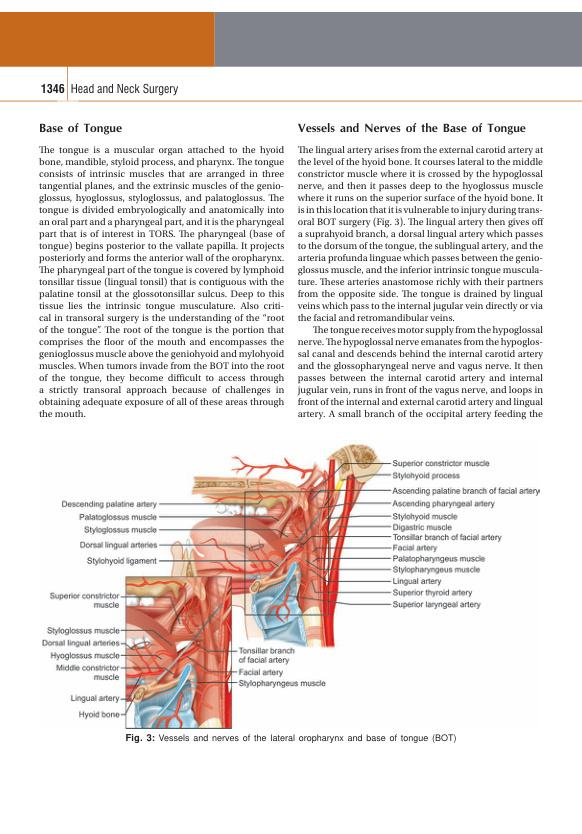caption: (124, 732, 458, 745)
header: (70, 82, 180, 97)
image: (34, 437, 551, 730)
section-heading: (297, 122, 527, 136), (38, 122, 124, 137)
text: (296, 143, 544, 421), (38, 143, 285, 419)
